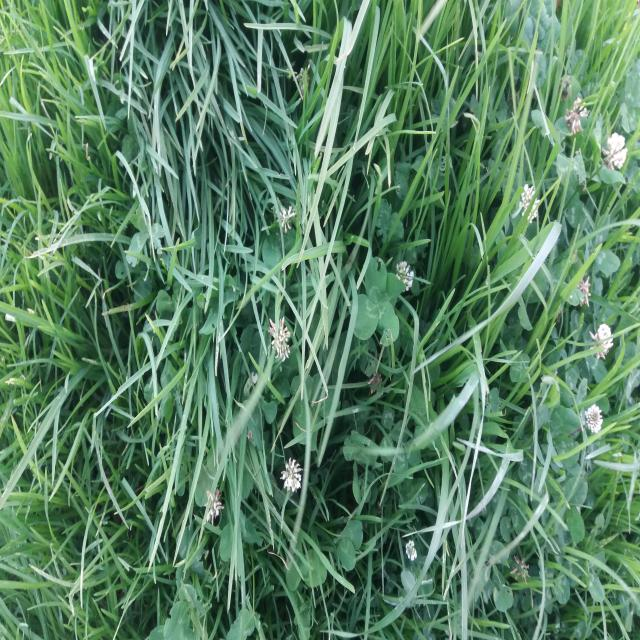Four Leaf Clover: (348, 257, 406, 346)
